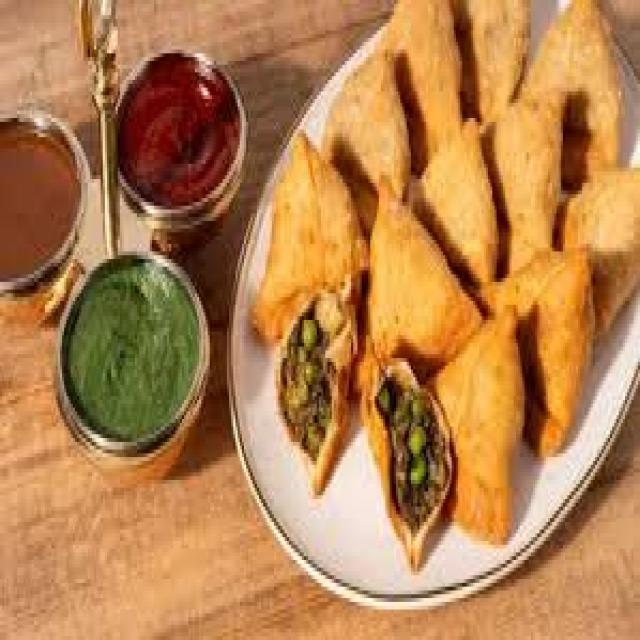SAMOSA: (357, 179, 479, 400), (253, 130, 366, 339), (484, 248, 591, 450), (435, 312, 522, 541), (360, 354, 447, 568), (520, 0, 619, 187), (278, 274, 357, 488), (411, 118, 494, 282), (484, 95, 563, 267), (383, 0, 460, 171), (321, 42, 407, 187), (561, 168, 638, 324), (458, 0, 529, 118)
